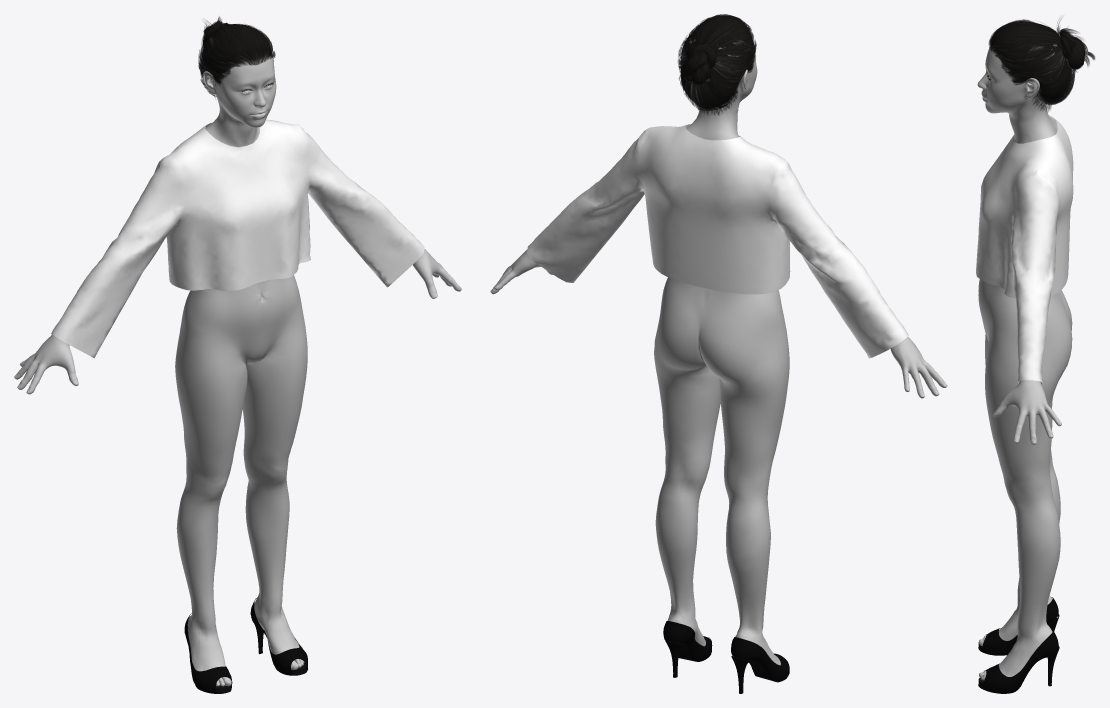
3 renders of one model, left to right at view 1: azimuth 30°, elevation 25°; view 2: azimuth 150°, elevation 25°; view 3: azimuth 270°, elevation 25°, orthographic. The views are drawn at different scales.
Visible parts, largest first — view 1: body, Cloth, dress_hair, shoes_l, shoes_r; view 2: body, Cloth, dress_hair, shoes_r, shoes_l; view 3: body, Cloth, dress_hair, shoes_l, shoes_r.
Boxes of the visible parts, bbox=[...] form: body: bbox=[14, 38, 461, 686]; Cloth: bbox=[51, 119, 424, 358]; dress_hair: bbox=[198, 16, 275, 98]; shoes_l: bbox=[250, 598, 307, 675]; shoes_r: bbox=[184, 613, 232, 693]; body: bbox=[490, 38, 947, 665]; Cloth: bbox=[527, 124, 908, 358]; dress_hair: bbox=[678, 14, 756, 115]; shoes_r: bbox=[731, 637, 789, 693]; shoes_l: bbox=[663, 621, 712, 677]; body: bbox=[977, 44, 1072, 680]; Cloth: bbox=[976, 115, 1073, 384]; dress_hair: bbox=[988, 17, 1095, 111]; shoes_l: bbox=[978, 629, 1059, 693]; shoes_r: bbox=[978, 597, 1059, 655].
Size of what is drawn, in the model's own units: 1.21 by 1.71 by 0.2872.
